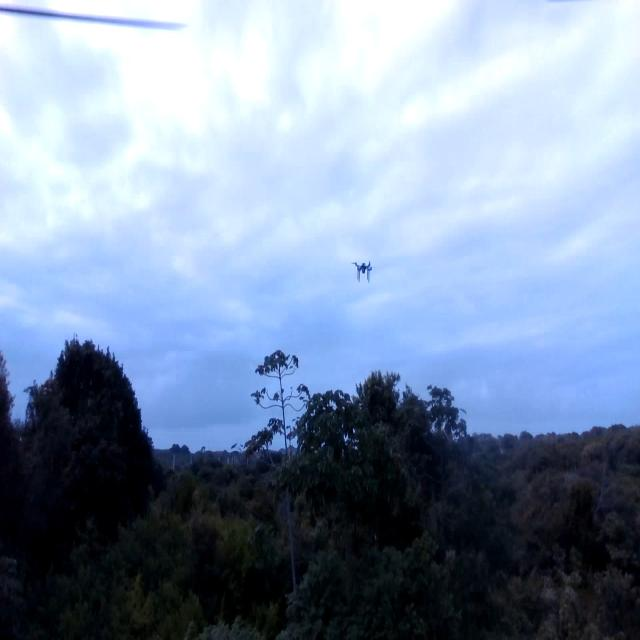-uav-: (348, 252, 374, 286)
